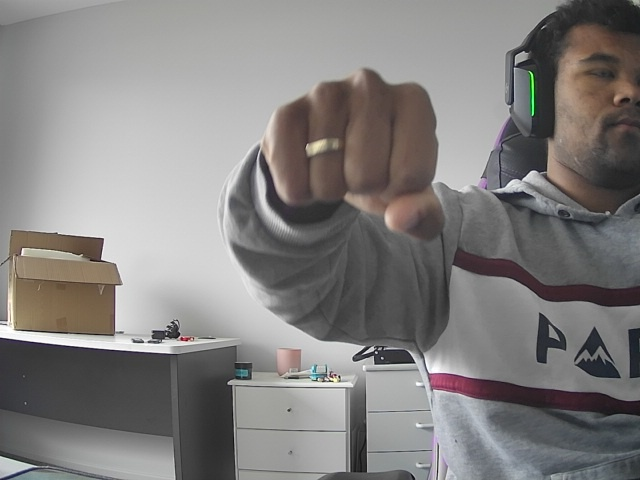Yes: (234, 48, 480, 250)
